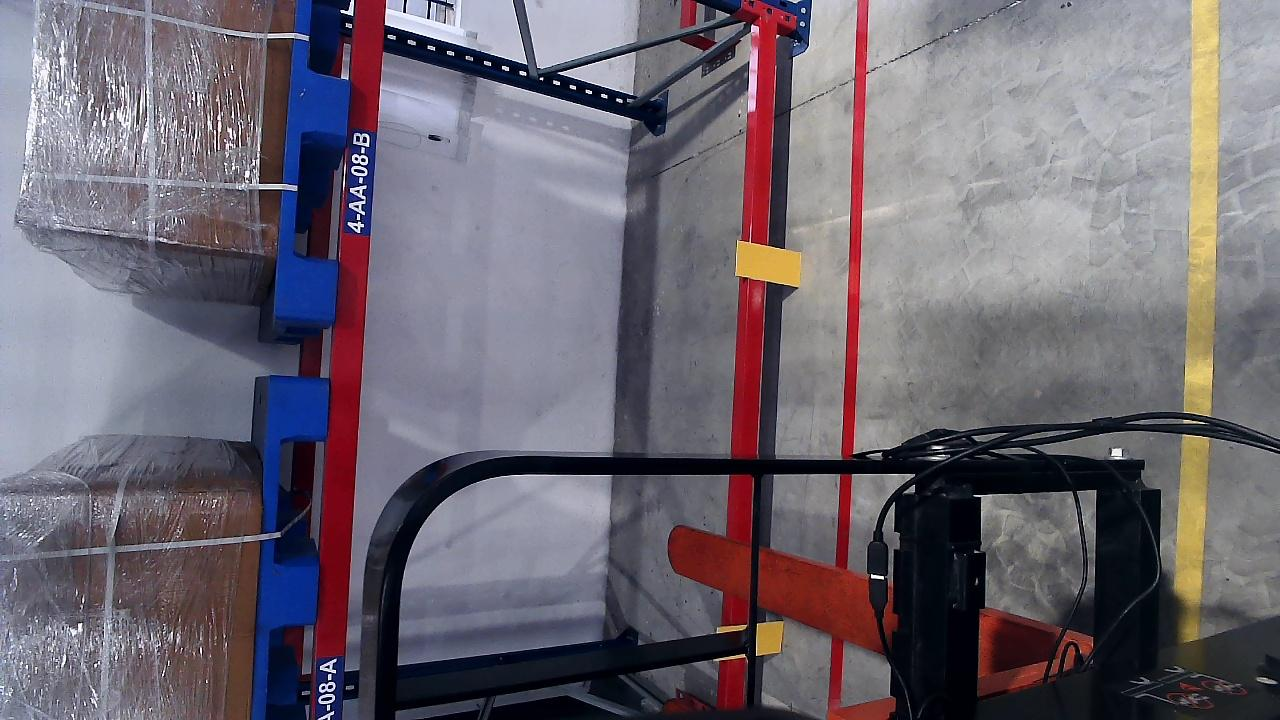h_rack: (315, 0, 387, 716), (730, 10, 778, 577)
orange_strip: (735, 241, 801, 287), (752, 621, 784, 654)
red_line: (840, 10, 869, 473)
small_pallet: (248, 377, 328, 720), (271, 0, 353, 317)
yellow_line: (1182, 0, 1221, 416)
